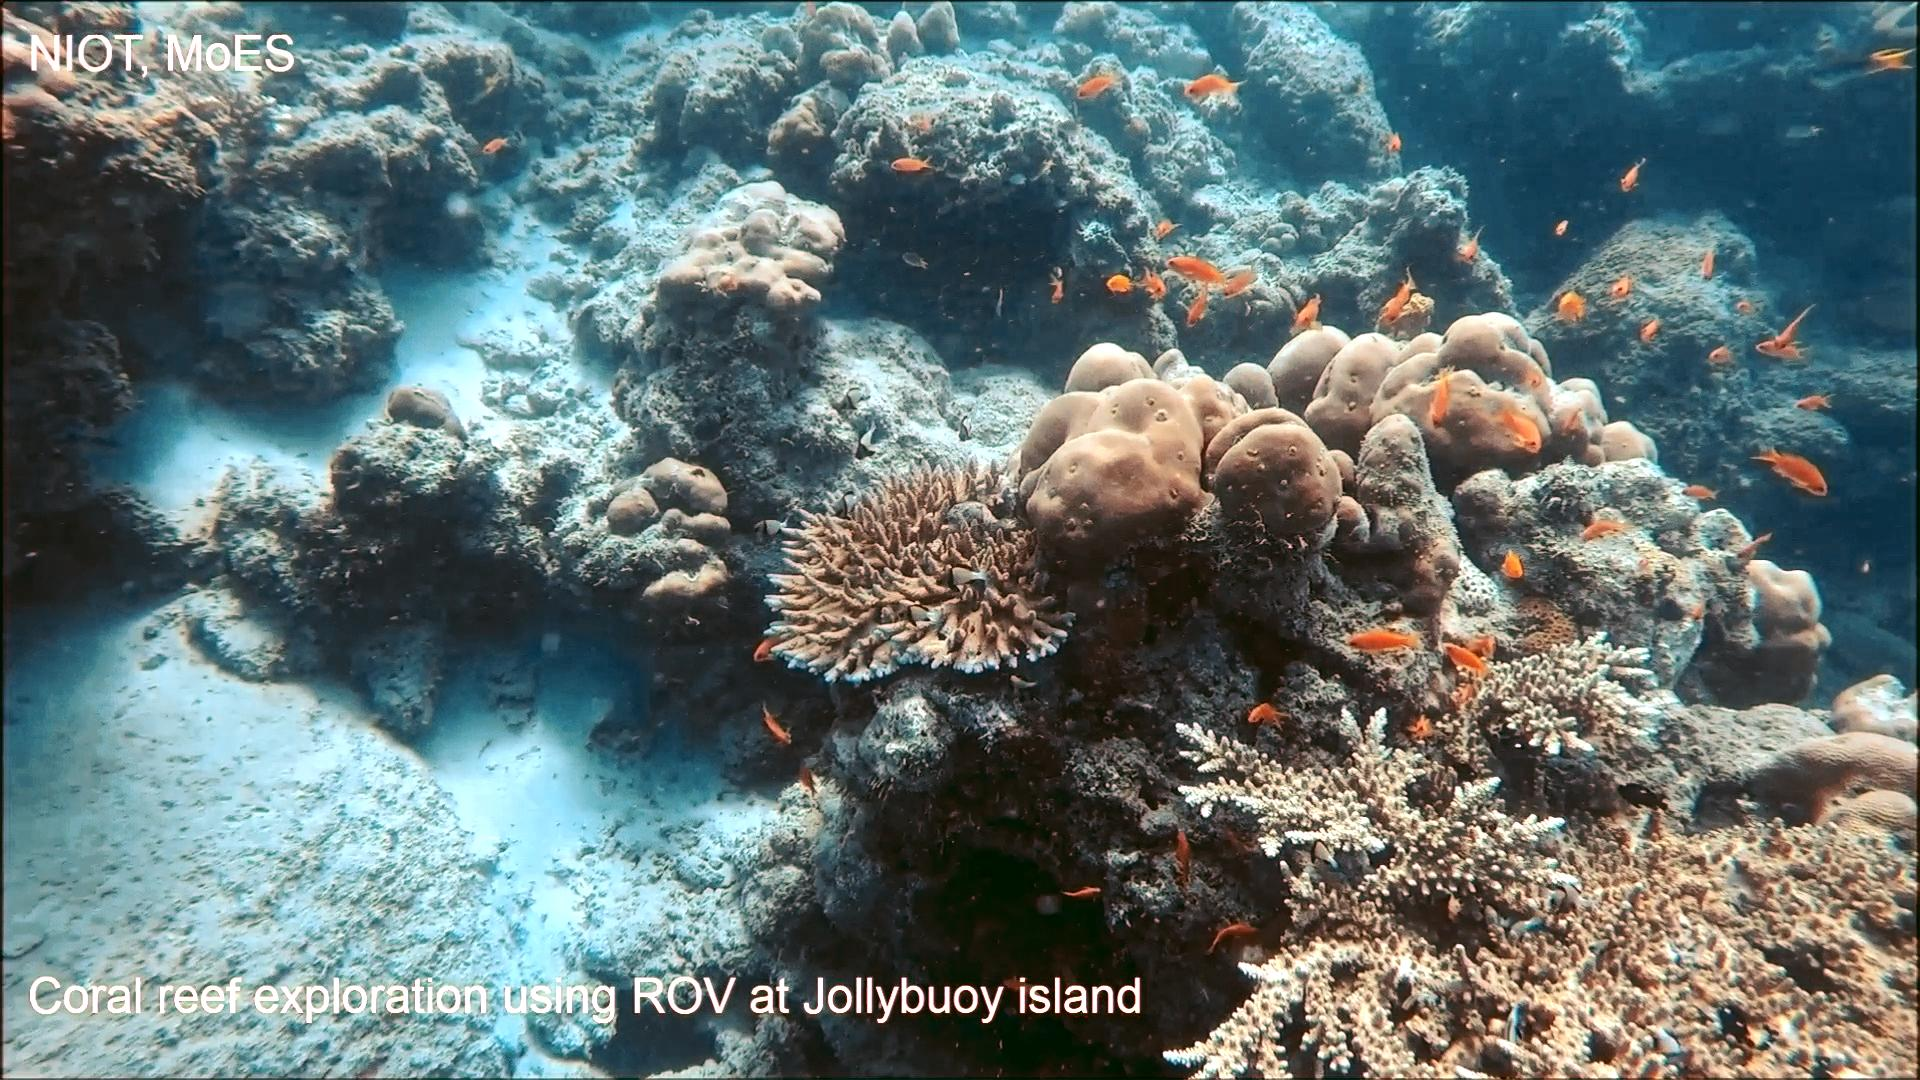Porites-Porites pukoensis: (1000, 336, 1344, 578), (1254, 309, 1664, 487)
